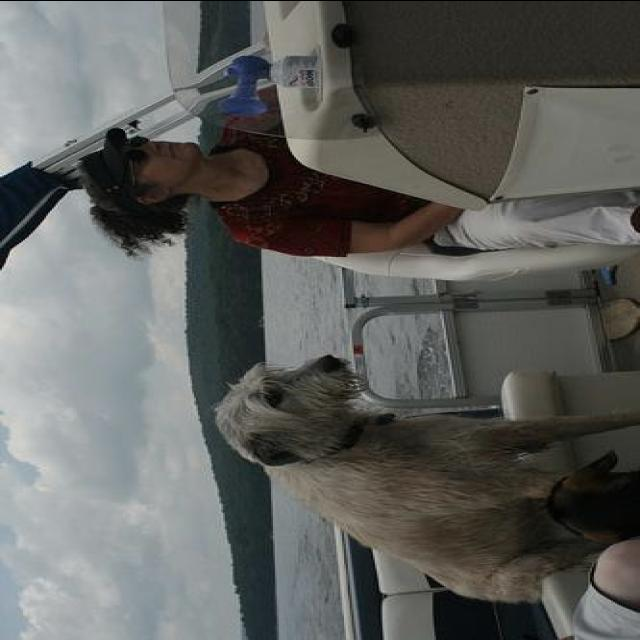irish_wolfhound: (202, 351, 638, 603)
